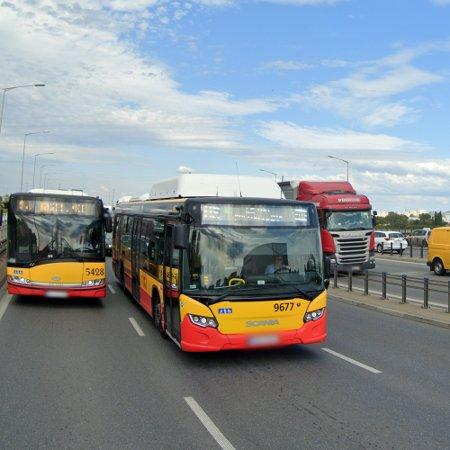buses: (113, 197, 328, 352), (7, 190, 112, 299)
